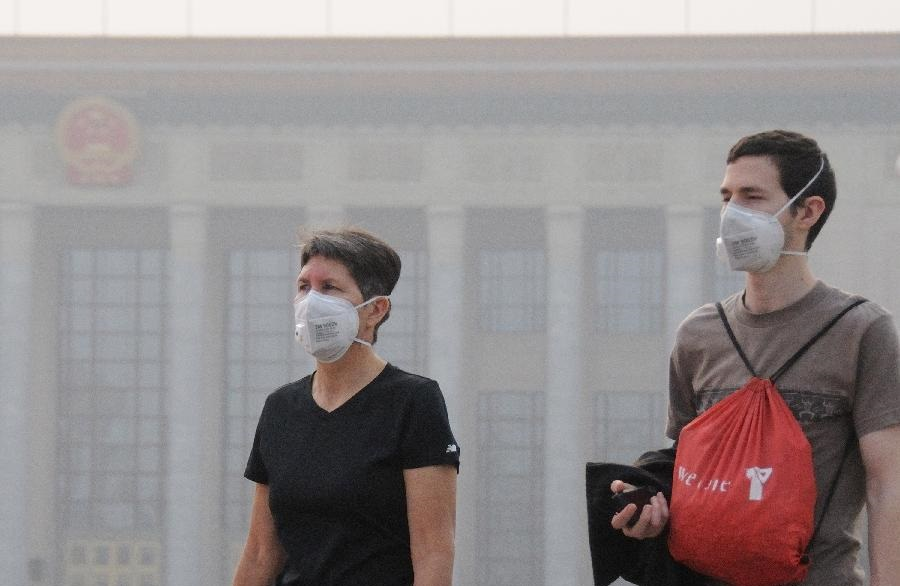face_mask: (718, 155, 796, 275), (292, 258, 360, 364)
